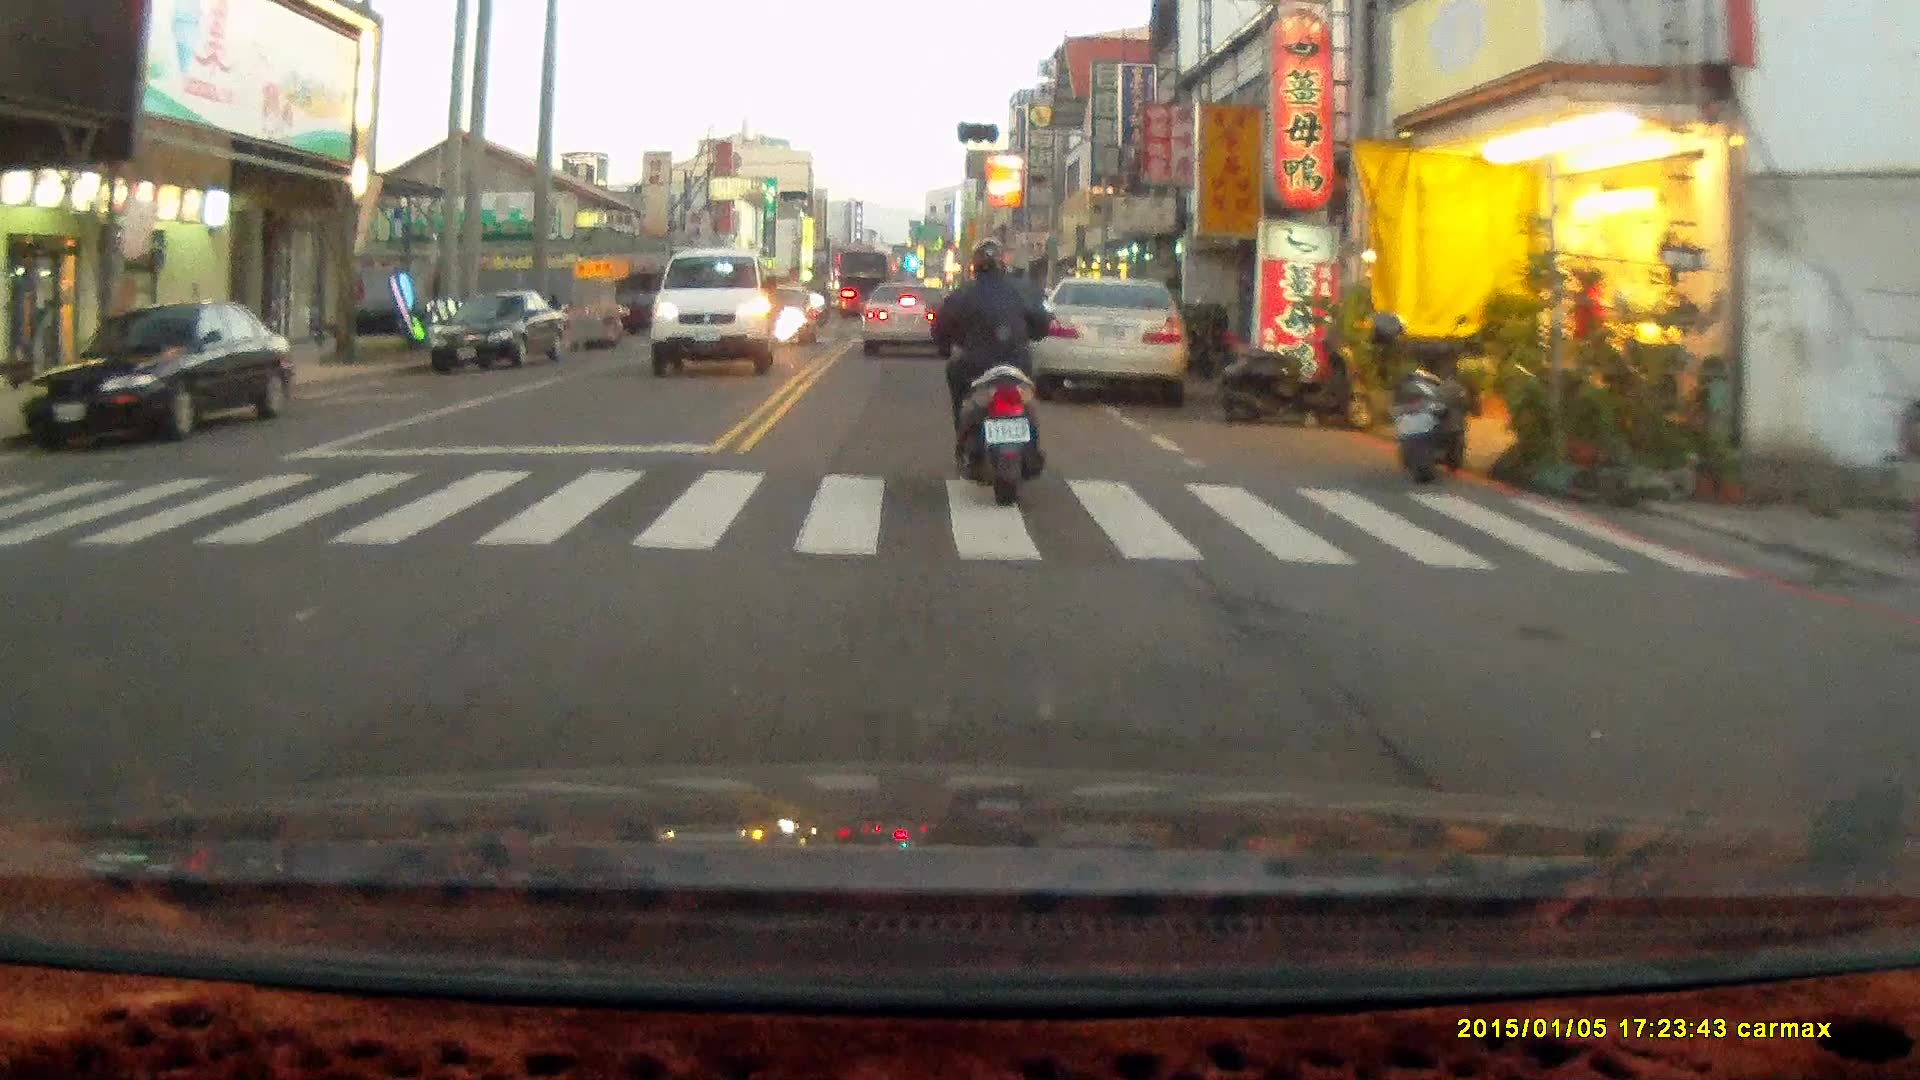pedestrian: (1574, 264, 1613, 398)
rider: (927, 234, 1052, 504)
vehicle: (18, 305, 293, 451), (1037, 277, 1192, 409), (651, 251, 779, 382), (427, 288, 572, 374), (857, 282, 955, 359)
